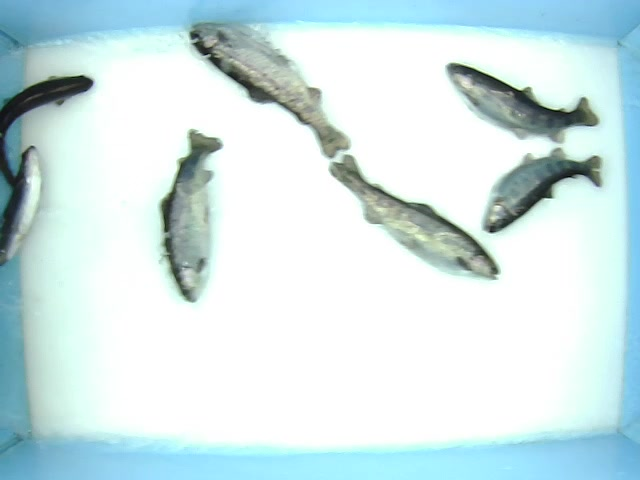fish: (180, 15, 362, 161), (327, 153, 509, 284), (161, 124, 245, 318), (437, 54, 599, 150), (475, 154, 623, 254), (1, 135, 63, 280)
